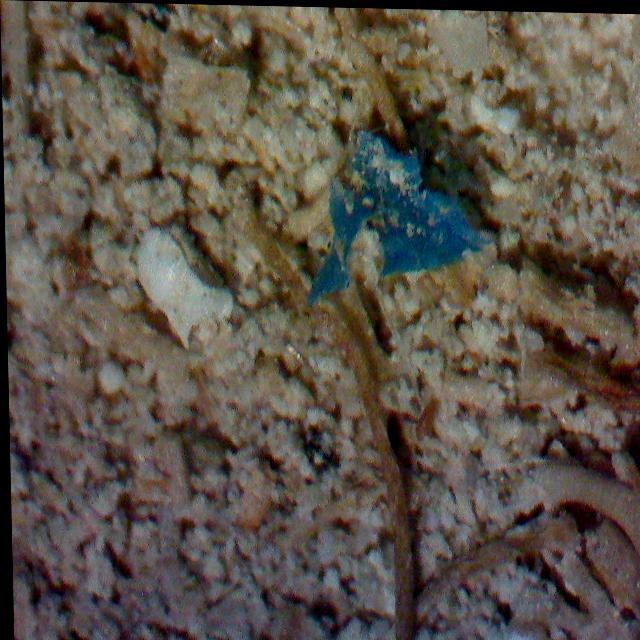microplastic: (308, 119, 496, 303)
